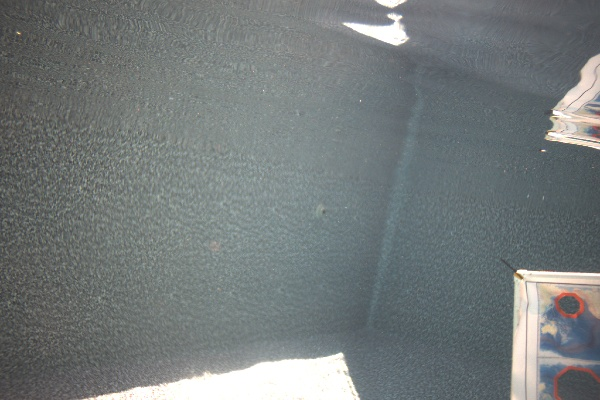torpille: (512, 268, 600, 400)
torpille_target: (552, 366, 600, 400), (554, 292, 584, 318)
